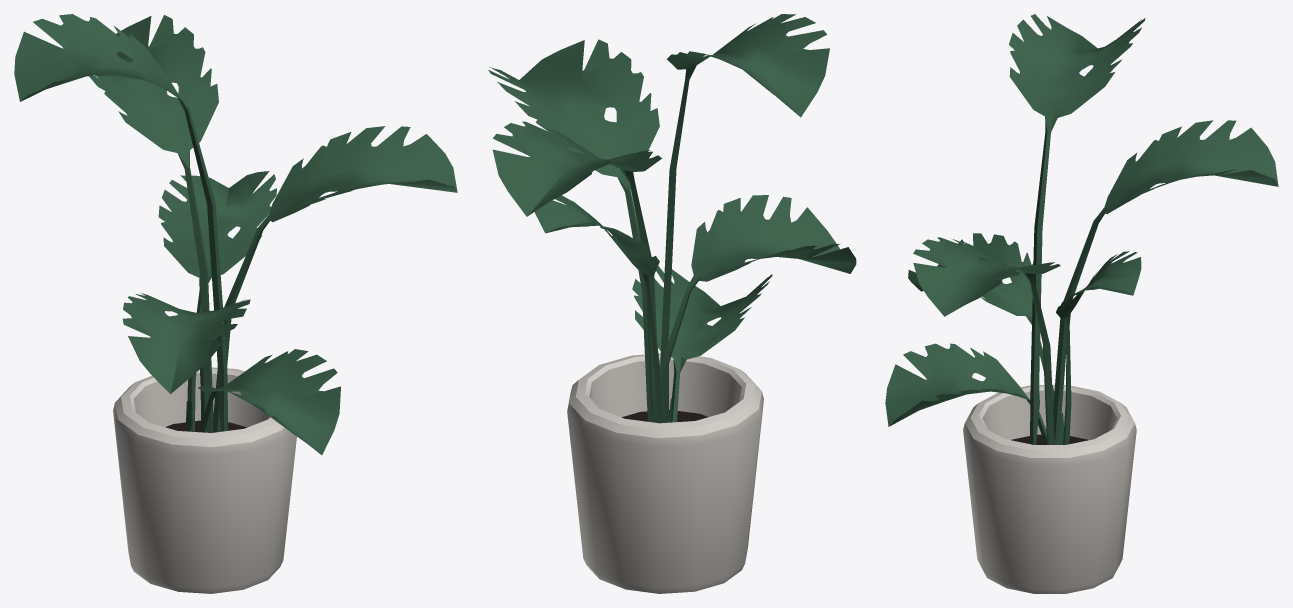
Rendered from plant.glb.
3 renders of one model, left to right at view 1: azimuth 30°, elevation 25°; view 2: azimuth 150°, elevation 25°; view 3: azimuth 270°, elevation 25°, orthographic. The views are drawn at different scales.
Visible parts, largest first — view 1: plant.001; view 2: plant.001; view 3: plant.001.
Part boxes in pixels (left/top/right/bottom): plant.001: left=14, top=14, right=457, bottom=593; plant.001: left=488, top=14, right=856, bottom=593; plant.001: left=885, top=14, right=1278, bottom=593.
Size of the model in its own units: 1.09 by 1.54 by 1.1.
